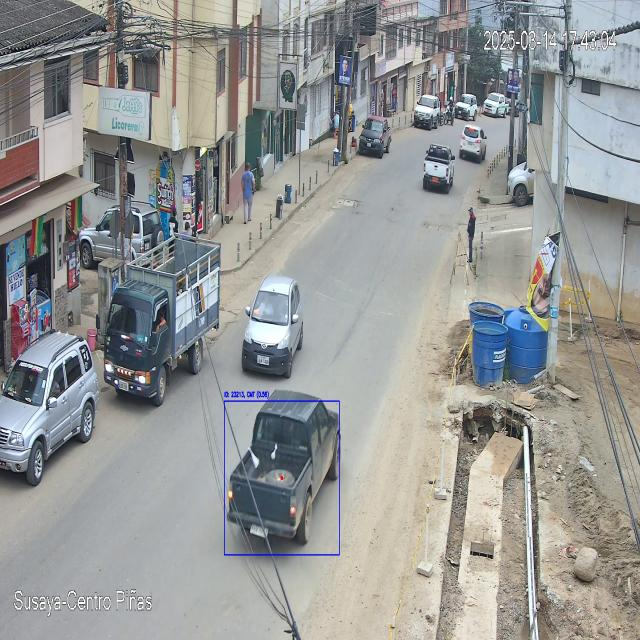CMT: (228, 389, 340, 544)
TRUCK: (104, 233, 221, 407)
